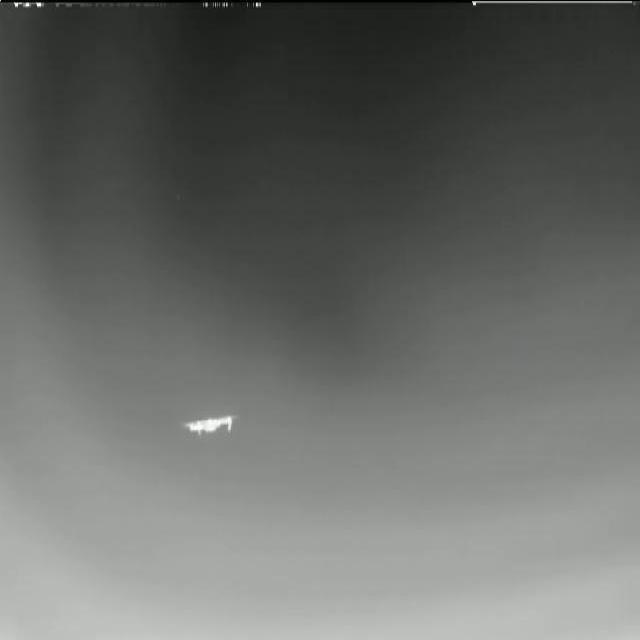DRONE: (177, 404, 244, 442)
